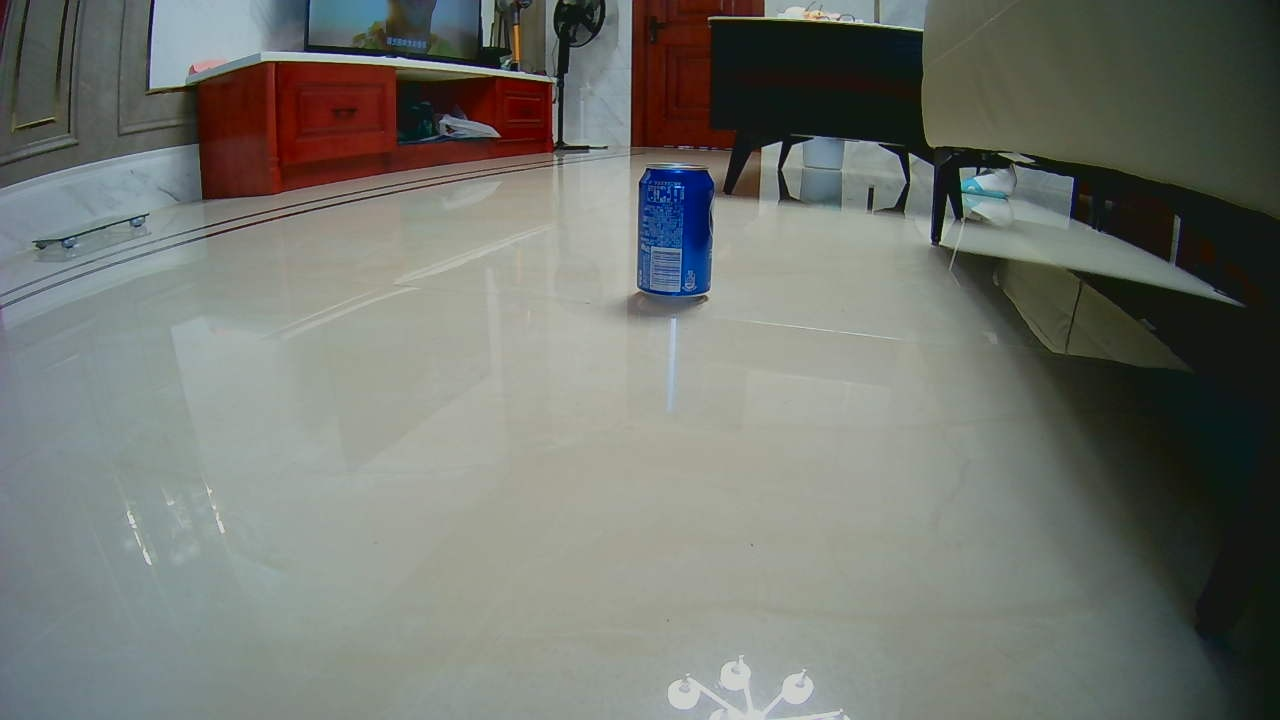pessi: (633, 167, 718, 298)
